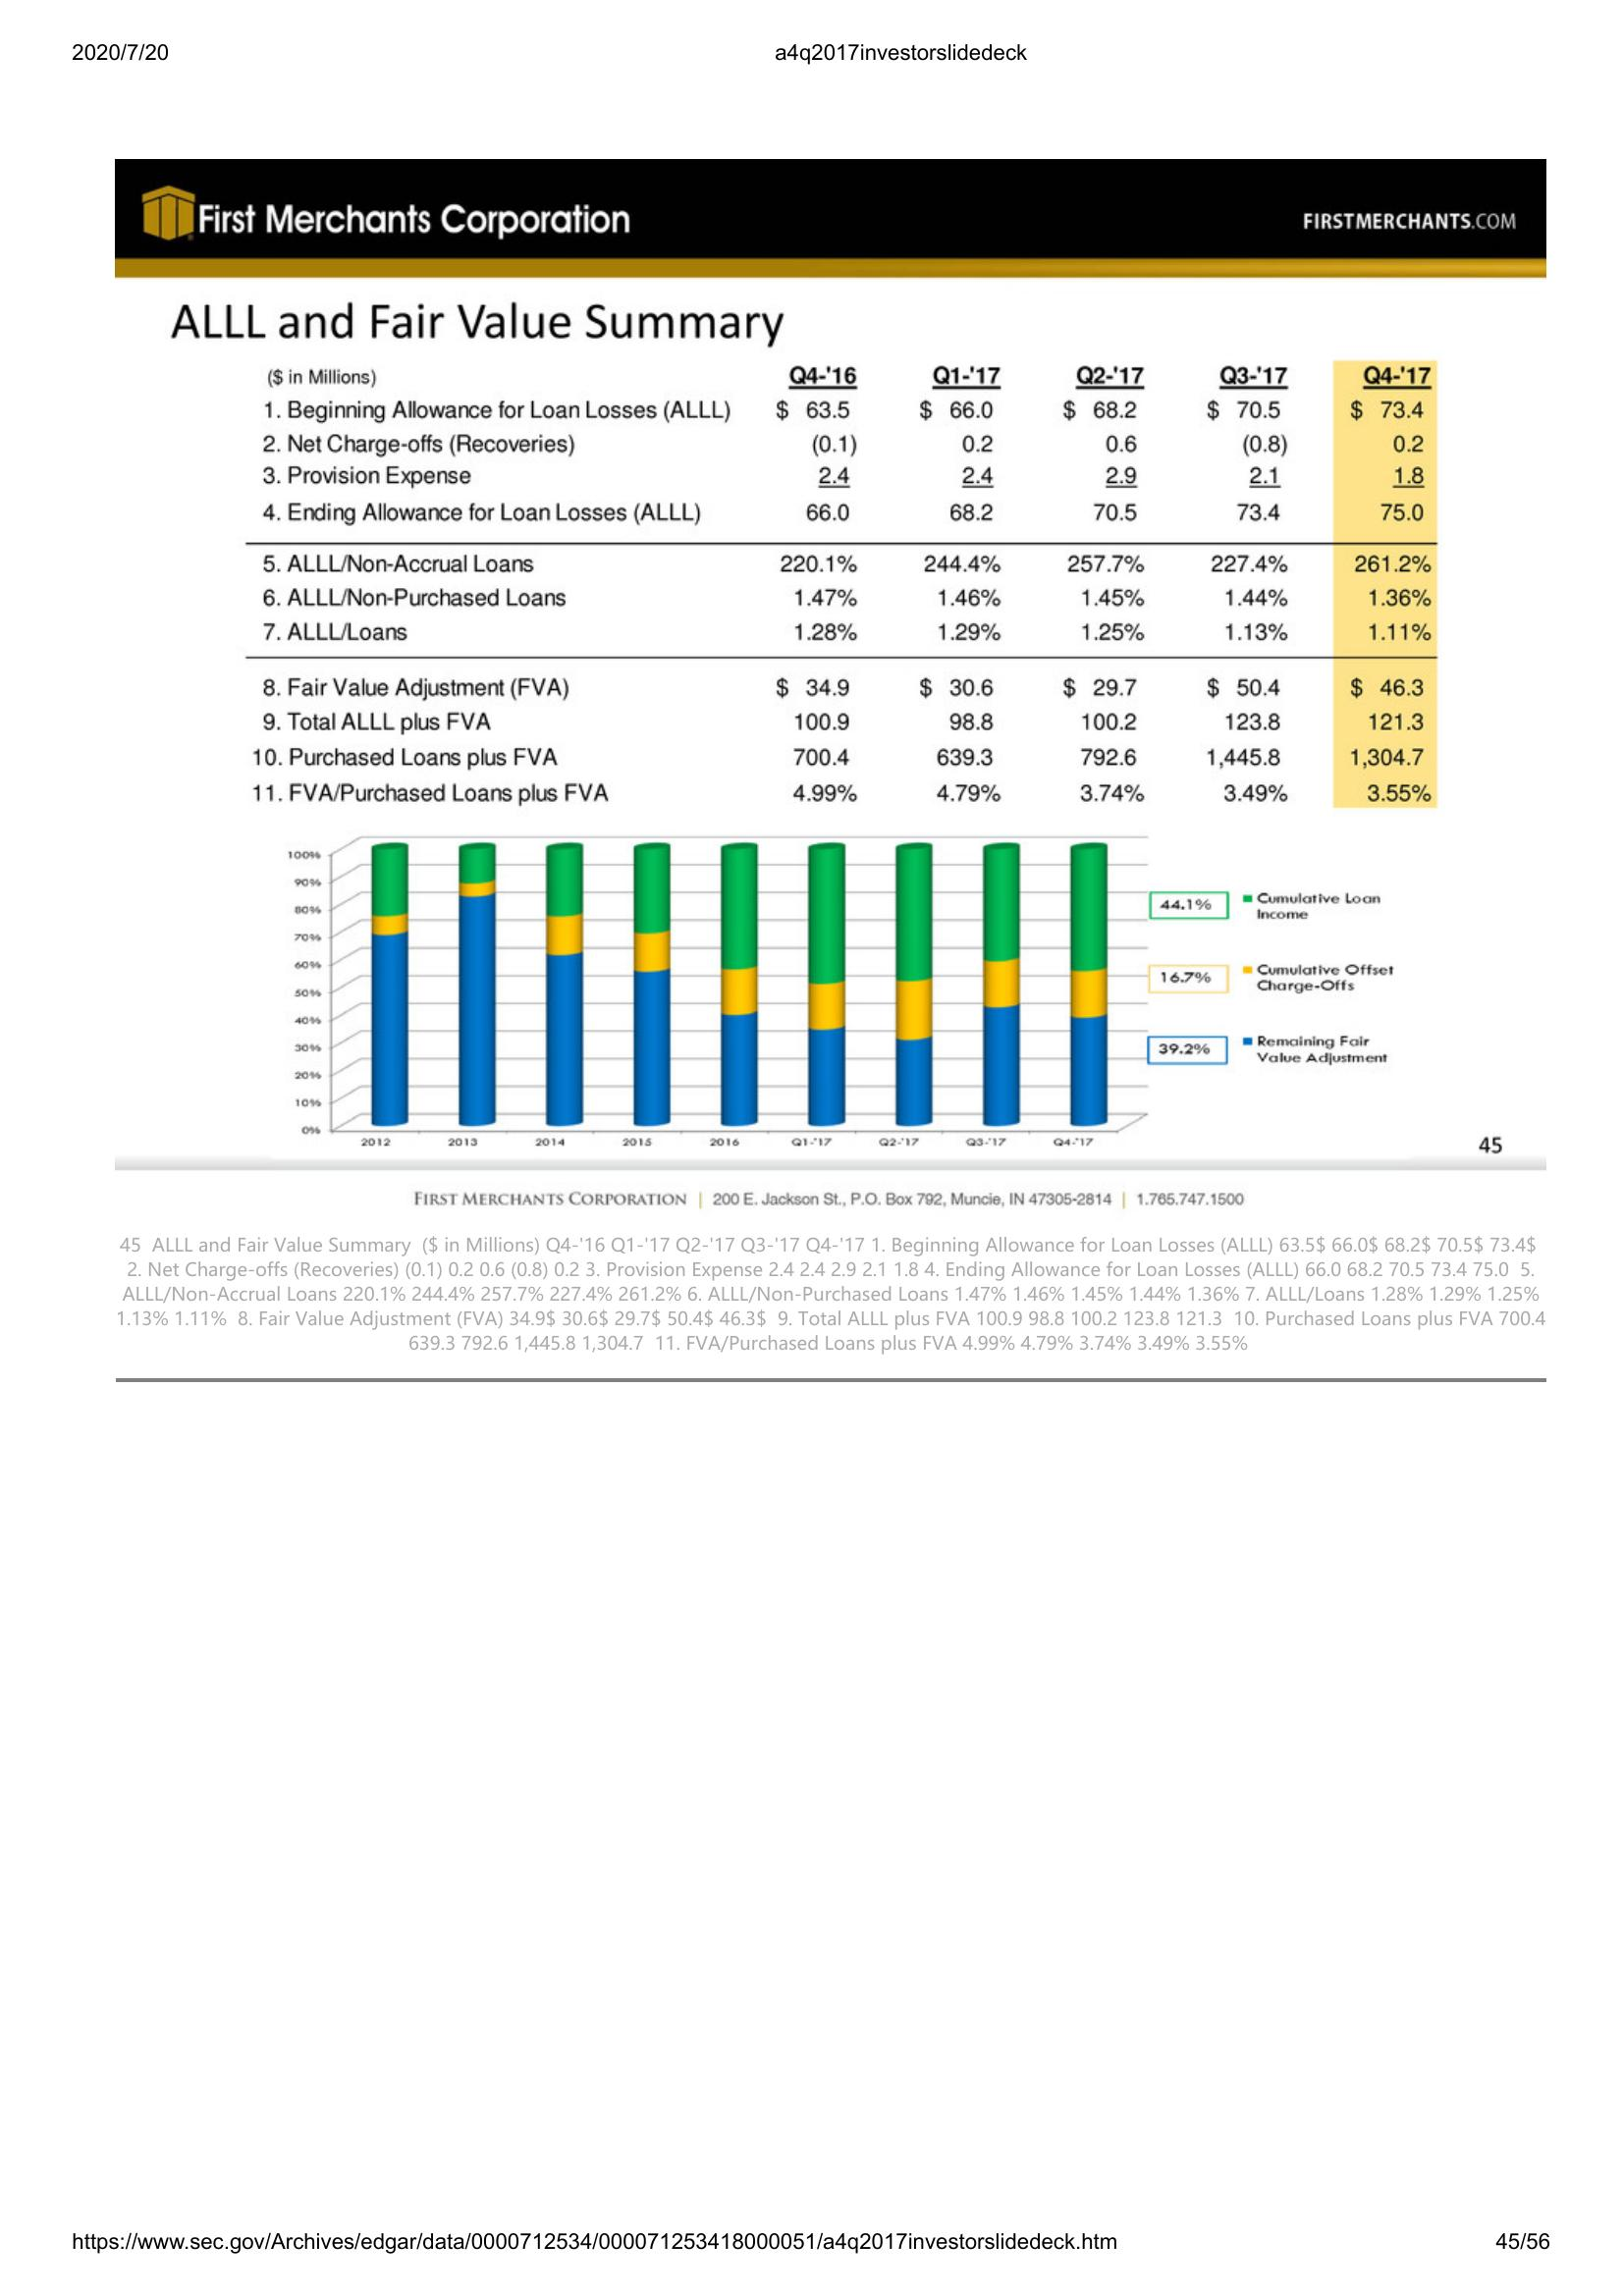table: (242, 351, 1449, 814)
